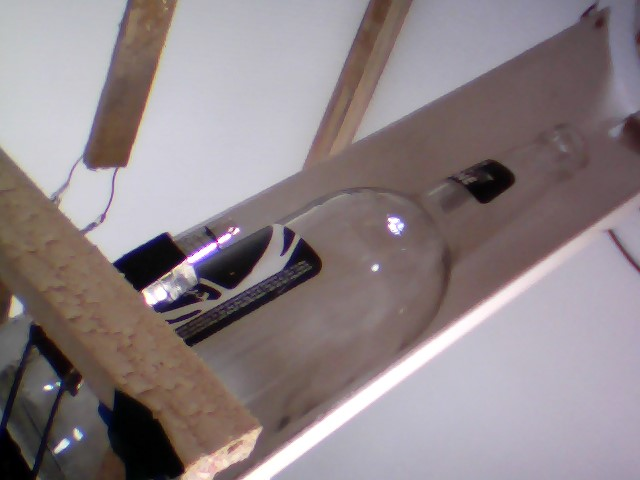vidrio: (199, 118, 597, 438)
